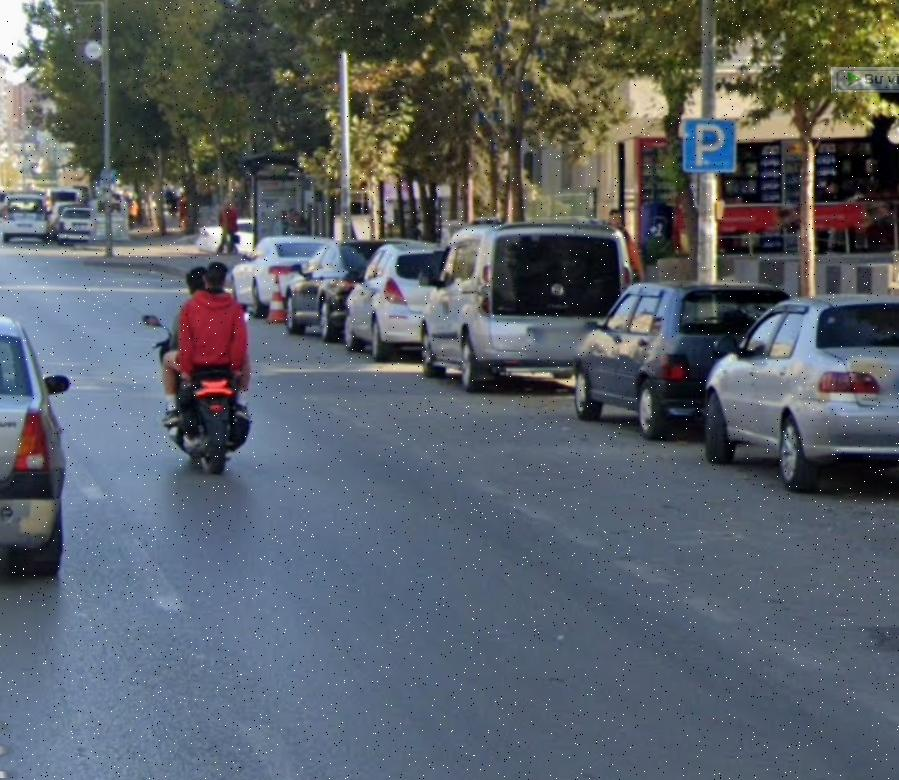park: (686, 122, 737, 174)
